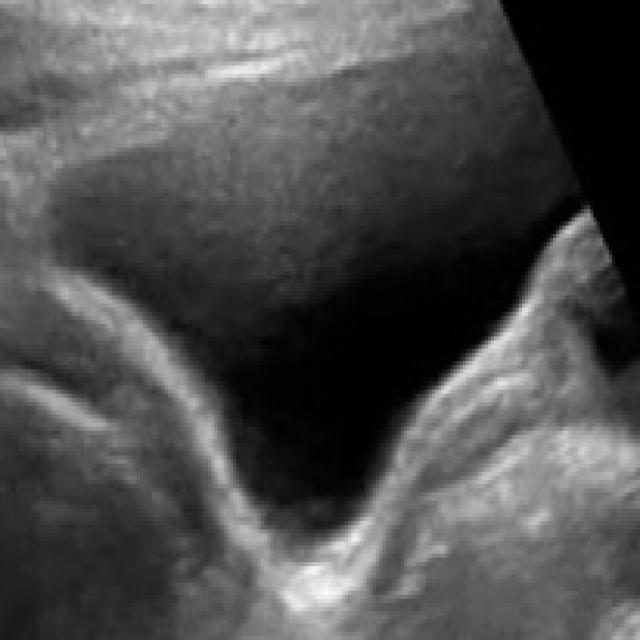bladder: (23, 20, 596, 598)
